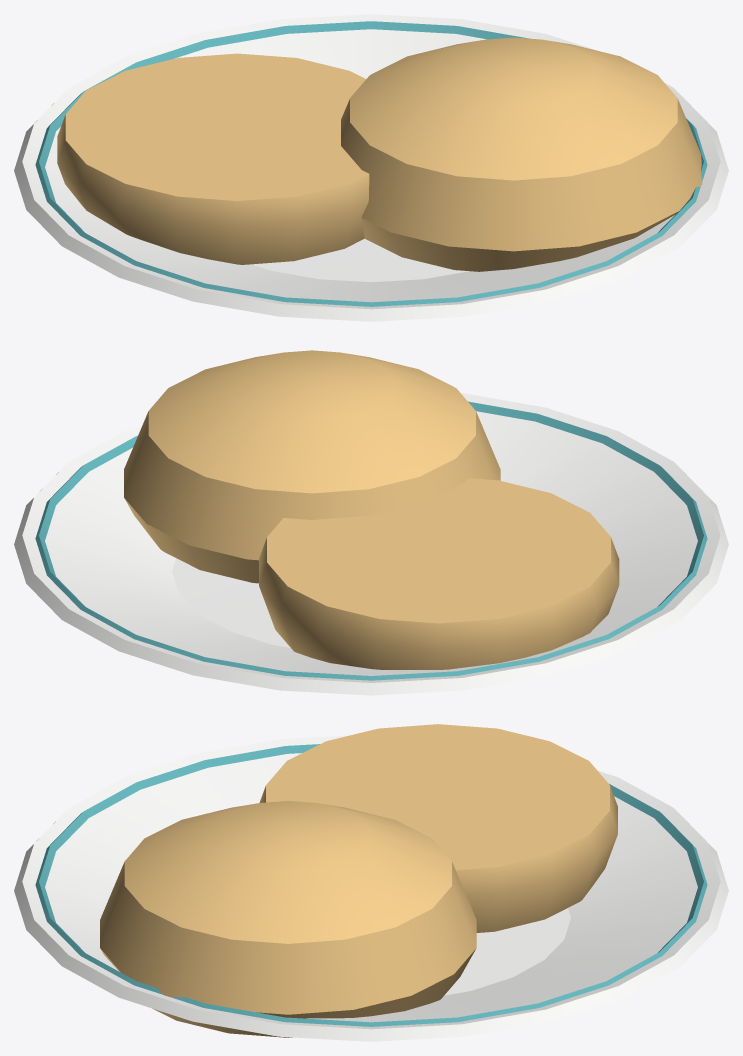
File: kr_p_bun.glb
3 renders of one model, top to bottom at view 1: azimuth 30°, elevation 25°; view 2: azimuth 150°, elevation 25°; view 3: azimuth 270°, elevation 25°, orthographic.
Visible parts, largest first — view 1: vc_m0_r4, vc_m0_r2; view 2: vc_m0_r4, vc_m0_r2; view 3: vc_m0_r4, vc_m0_r2.
Boxes of the visible parts, box(x1,y1,x2,y2) form: vc_m0_r4: box(35, 21, 707, 306); vc_m0_r2: box(14, 14, 728, 321); vc_m0_r4: box(35, 350, 707, 680); vc_m0_r2: box(14, 393, 728, 695); vc_m0_r4: box(35, 724, 707, 1037); vc_m0_r2: box(14, 735, 728, 1041).
Size of the model in its own units: 0.43 by 0.11 by 0.43.
